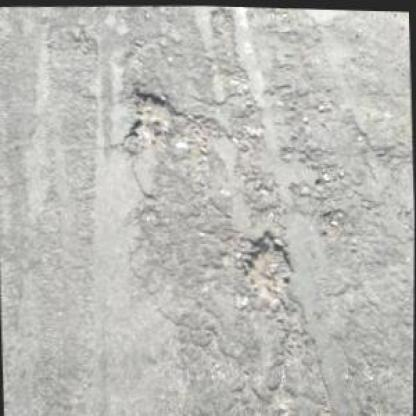pothole: (241, 226, 297, 298), (123, 85, 179, 151)
